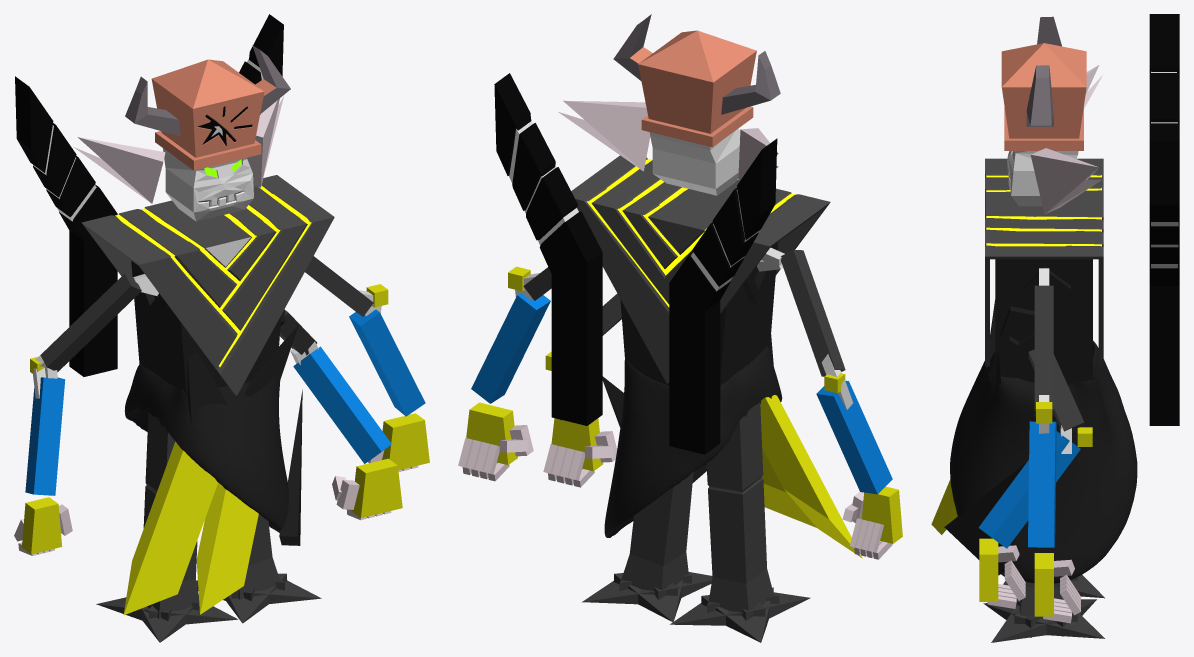
Rendered from gastero4.fbx.
3 renders of one model, left to right at view 1: azimuth 30°, elevation 25°; view 2: azimuth 150°, elevation 25°; view 3: azimuth 270°, elevation 25°, orthographic. The views are drawn at different scales.
Parts seen in each view (by area): view 1: Cube.002, Torus, Cube.028, Cube.020, Cube.004, Cube.003, Cube.001, Cube, Cube.019, Cube.007, Cube.021, Cube.009 (+18 smaller); view 2: Cube.028, Cube.002, Cube, Torus, Cube.020, Cube.001, Cube.004, Cube.021, Cube.019, Cube.009, Cube.008, Cube.010 (+16 smaller); view 3: Torus, Cube.028, Cube.001, Cube.002, Cube.020, Cube.008, Cube.021, Cube.007, Cube.005, Cube.022, Cube.037, Cube.019 (+14 smaller).
Boxes of the visible parts, left/top/right/bottom form: Cube.002: left=81, top=175, right=334, bottom=395; Torus: left=124, top=364, right=288, bottom=532; Cube.028: left=15, top=14, right=283, bottom=376; Cube.020: left=151, top=59, right=276, bottom=170; Cube.004: left=123, top=441, right=218, bottom=614; Cube.003: left=196, top=483, right=258, bottom=614; Cube.001: left=131, top=261, right=285, bottom=414; Cube: left=143, top=412, right=280, bottom=618; Cube.019: left=163, top=148, right=253, bottom=221; Cube.007: left=293, top=346, right=391, bottom=463; Cube.021: left=73, top=95, right=284, bottom=203; Cube.009: left=25, top=377, right=65, bottom=495; Cube.028: left=494, top=73, right=777, bottom=454; Cube.002: left=571, top=155, right=830, bottom=383; Cube: left=619, top=402, right=773, bottom=615; Torus: left=604, top=346, right=782, bottom=537; Cube.020: left=630, top=30, right=756, bottom=147; Cube.001: left=620, top=242, right=778, bottom=403; Cube.004: left=760, top=395, right=862, bottom=558; Cube.021: left=558, top=100, right=778, bottom=182; Cube.019: left=649, top=128, right=740, bottom=195; Cube.009: left=816, top=380, right=892, bottom=494; Cube.008: left=471, top=293, right=550, bottom=403; Cube.010: left=781, top=250, right=845, bottom=376; Torus: left=950, top=340, right=1137, bottom=583; Cube.028: left=1149, top=14, right=1179, bottom=425; Cube.001: left=995, top=259, right=1092, bottom=384; Cube.002: left=985, top=158, right=1103, bottom=366; Cube.020: left=1001, top=43, right=1086, bottom=150; Cube.008: left=1028, top=421, right=1056, bottom=547; Cube.021: left=1030, top=65, right=1102, bottom=214; Cube.007: left=978, top=431, right=1080, bottom=548; Cube.005: left=1034, top=285, right=1053, bottom=416; Cube.022: left=944, top=461, right=1027, bottom=575; Cube.037: left=1026, top=16, right=1061, bottom=126; Cube.019: left=1007, top=151, right=1078, bottom=206.
Bounding box in the file's own units: 545 × 706 × 283.
